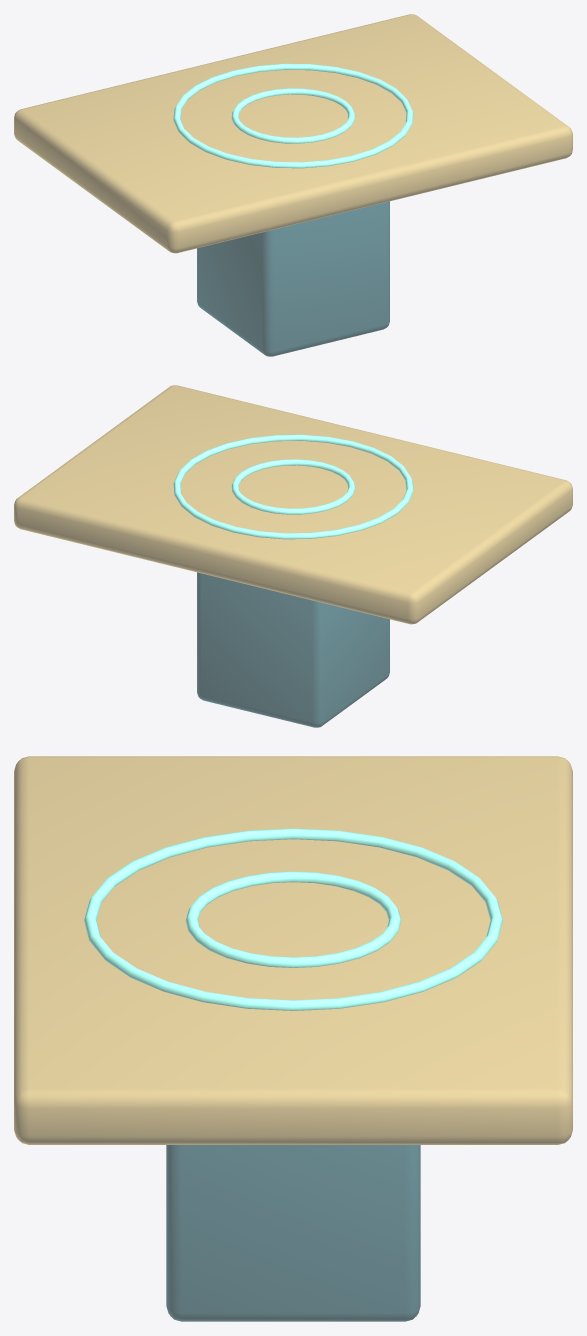
The model's file is atlantis_detail_chart_table.glb.
3 renders of one model, top to bottom at view 1: azimuth 30°, elevation 25°; view 2: azimuth 150°, elevation 25°; view 3: azimuth 270°, elevation 25°, orthographic. The views are drawn at different scales.
Visible parts, largest first — view 1: atlantis_detail_chart_table_surface; view 2: atlantis_detail_chart_table_surface; view 3: atlantis_detail_chart_table_surface.
Part boxes in pixels (left/top/right/bottom): atlantis_detail_chart_table_surface: left=14, top=14, right=572, bottom=356; atlantis_detail_chart_table_surface: left=14, top=385, right=572, bottom=727; atlantis_detail_chart_table_surface: left=14, top=756, right=572, bottom=1321.
Size of the model in its own units: 3.2 by 1.55 by 2.2.
